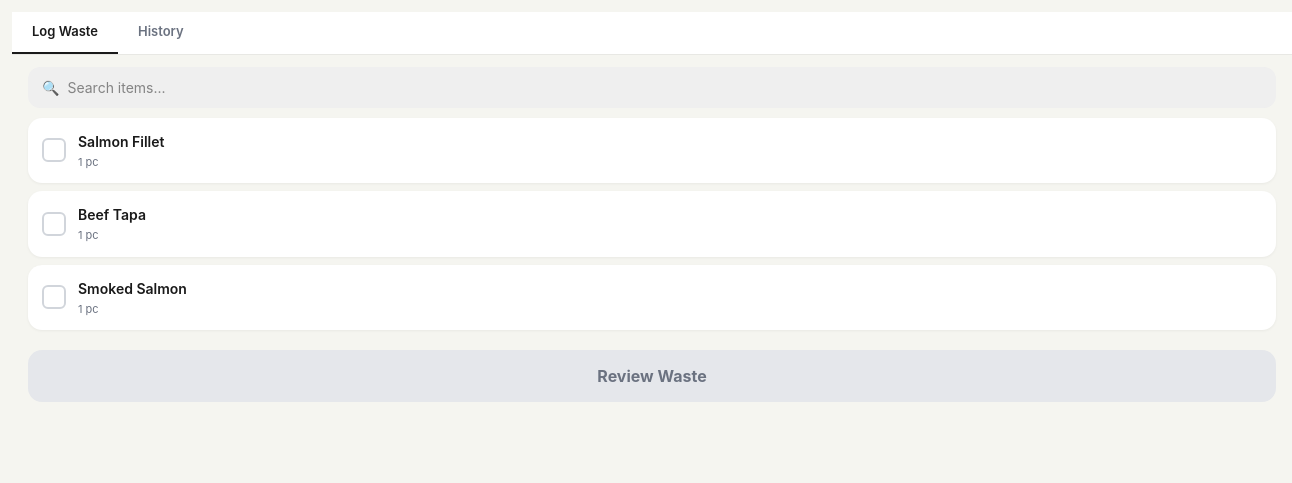
Test: WasteContent history tab › shows waste entries grouped by date
Click the tab "History": (161, 33) x1=118 y1=12 x2=204 y2=54
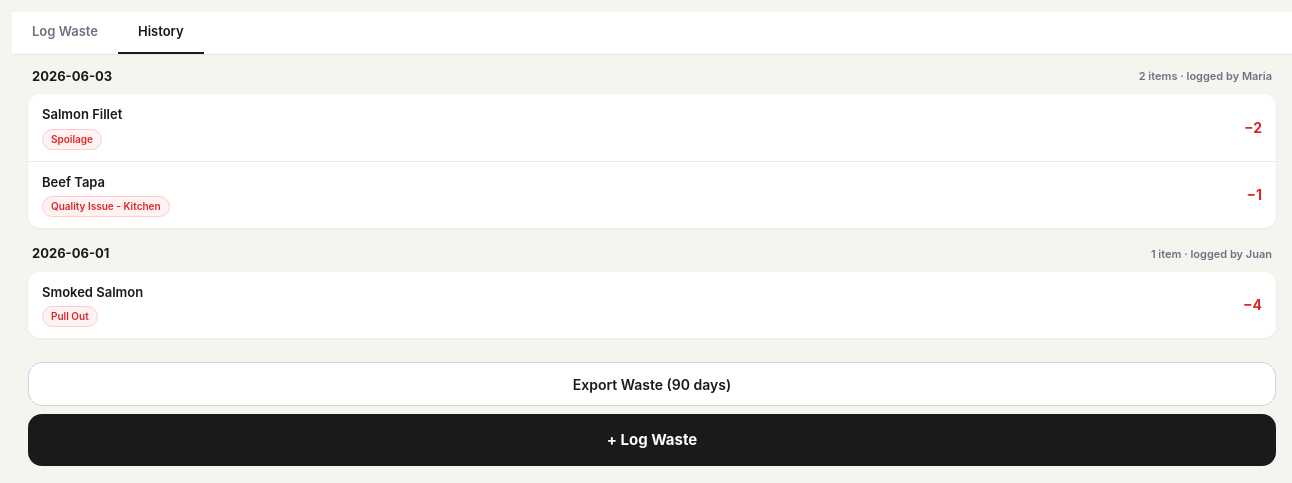
Now the element with test id "history-group-2026-06-03" is shown, box x1=28 y1=66 x2=1276 y2=228
Now the element with test id "history-group-2026-06-01" is shown, box x1=28 y1=244 x2=1276 y2=338
